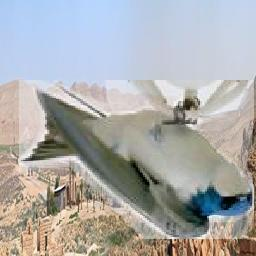Swallow: (20, 81, 255, 240)
